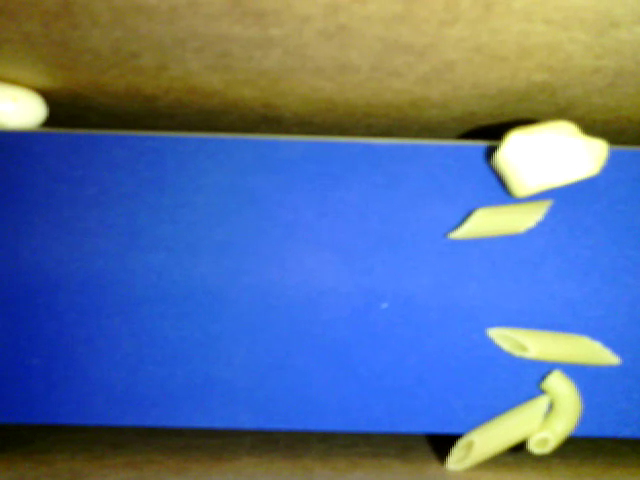elbow: (526, 368, 583, 456)
penne: (443, 394, 549, 472), (486, 327, 621, 364), (446, 198, 555, 239)
